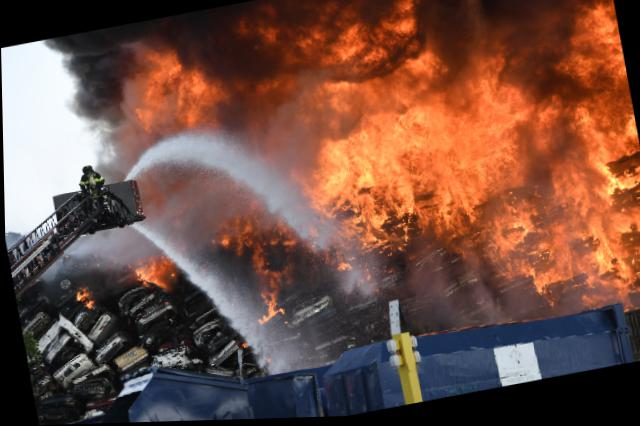fire: (313, 76, 640, 205), (358, 56, 445, 117), (554, 168, 598, 277), (561, 5, 624, 78), (588, 157, 625, 263), (428, 174, 520, 202), (139, 60, 178, 122), (324, 26, 360, 63), (181, 72, 205, 122), (392, 25, 414, 48)
smoke: (55, 4, 246, 77), (250, 0, 399, 37), (476, 0, 553, 50), (408, 0, 481, 52), (64, 69, 129, 127), (204, 40, 278, 90)
